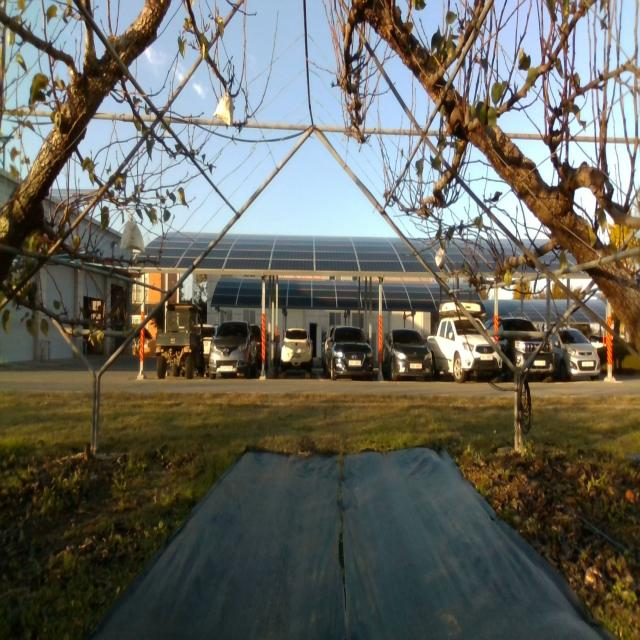pearbags: (120, 220, 145, 252), (214, 92, 234, 126), (434, 248, 446, 269)
